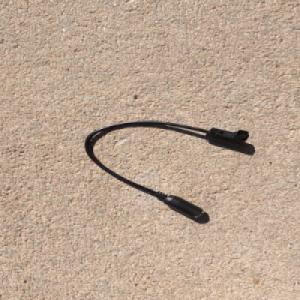Wire: (83, 119, 250, 221)
